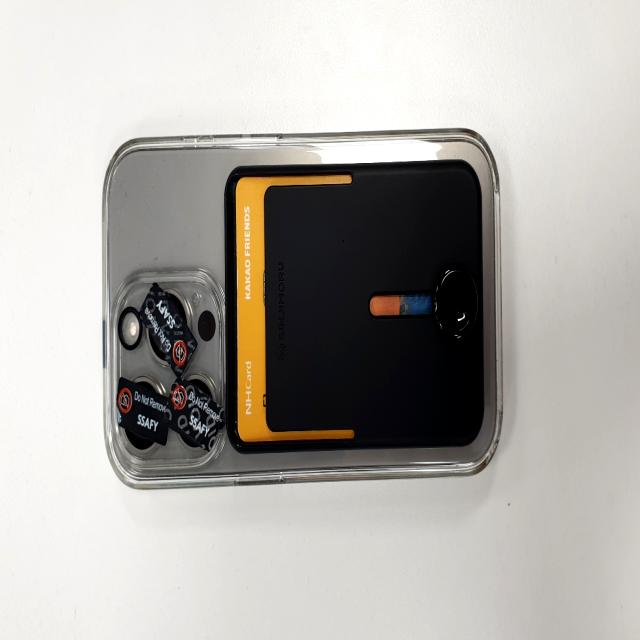phone: (102, 136, 504, 494)
removed_sticker: (145, 286, 196, 374), (166, 381, 224, 454)
sticker: (118, 377, 168, 444)
